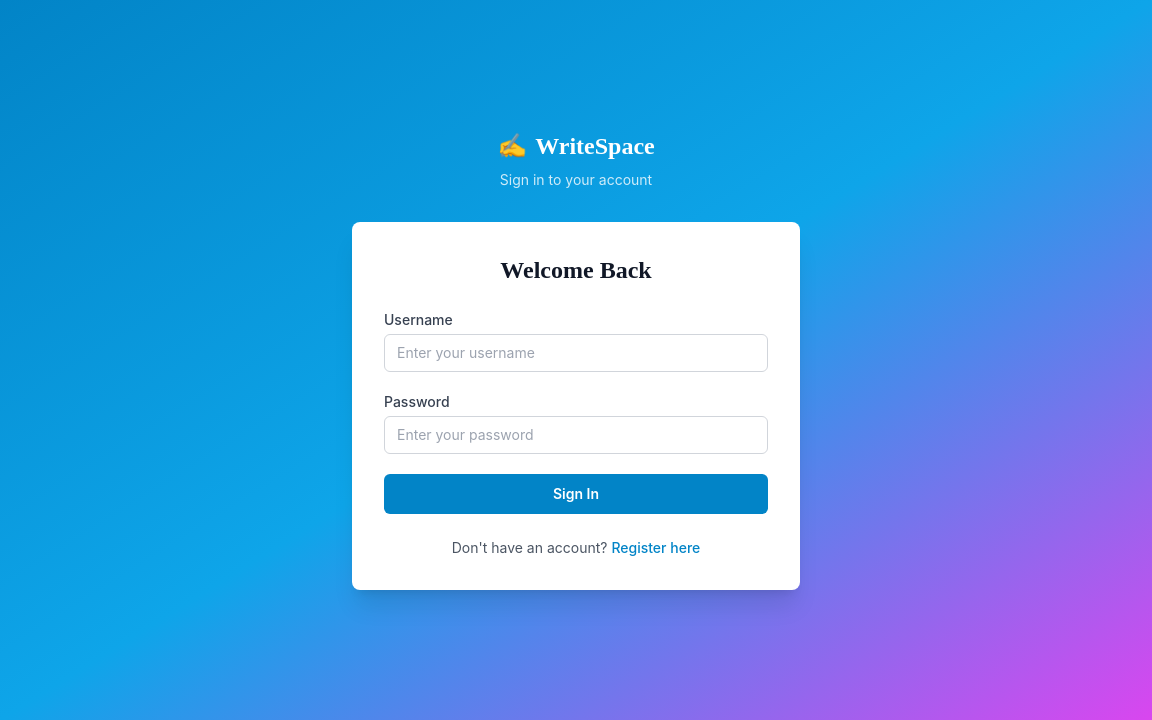
LoginPage › failed login error display › displays error when password is empty
Type "someuser" into the field labelled "Username" at (576,353), box [384,334,768,372]
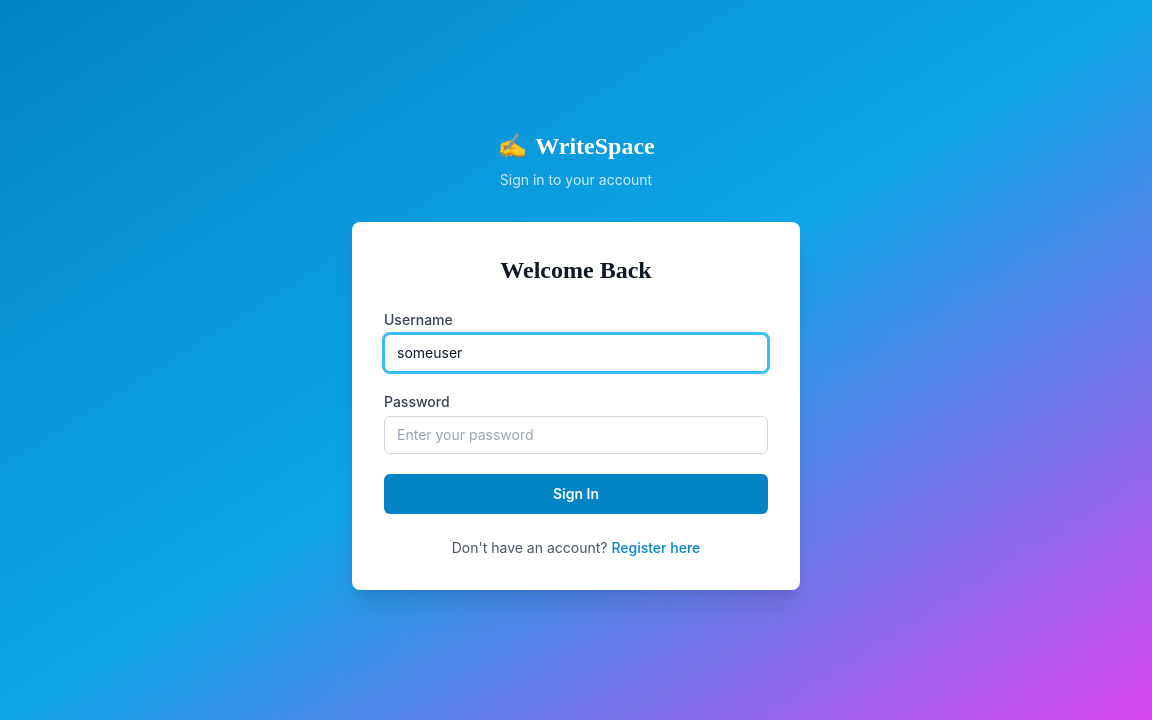
Click the button "Sign In" at (576,494), box [384,474,768,514]
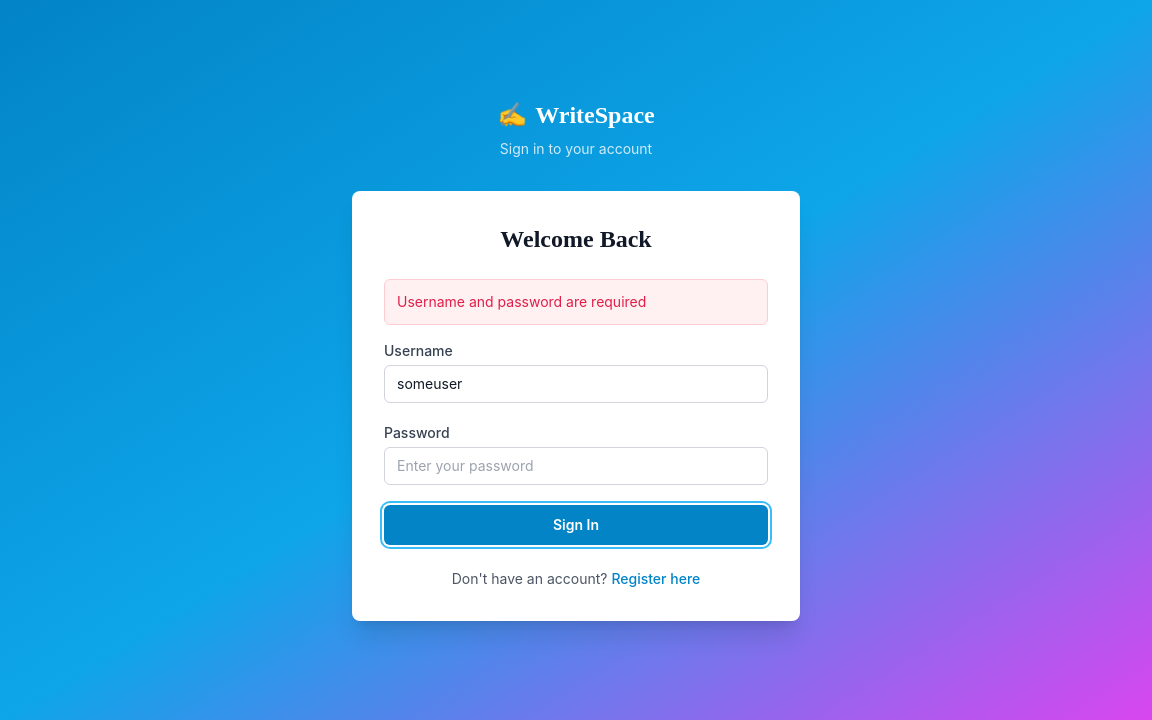
Now the text "Username and password are required" is shown, box [397,293,646,310]
